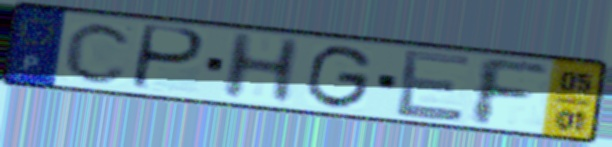C: (61, 20, 138, 86)
E: (393, 47, 475, 124)
F: (471, 54, 552, 129)
G: (302, 43, 376, 111)
H: (217, 30, 306, 104)
P: (126, 22, 209, 94)
